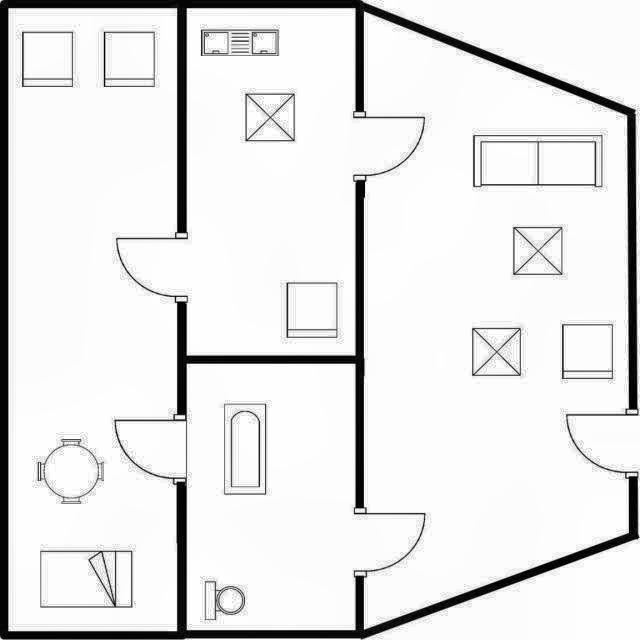room: (362, 11, 630, 630), (8, 8, 177, 631), (187, 8, 355, 355), (187, 364, 355, 630)
